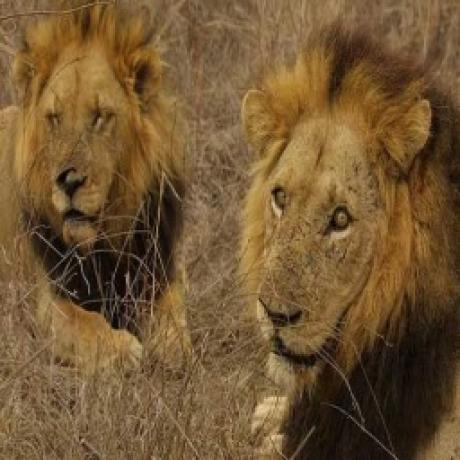Lion: (237, 18, 460, 458), (0, 0, 201, 372)
